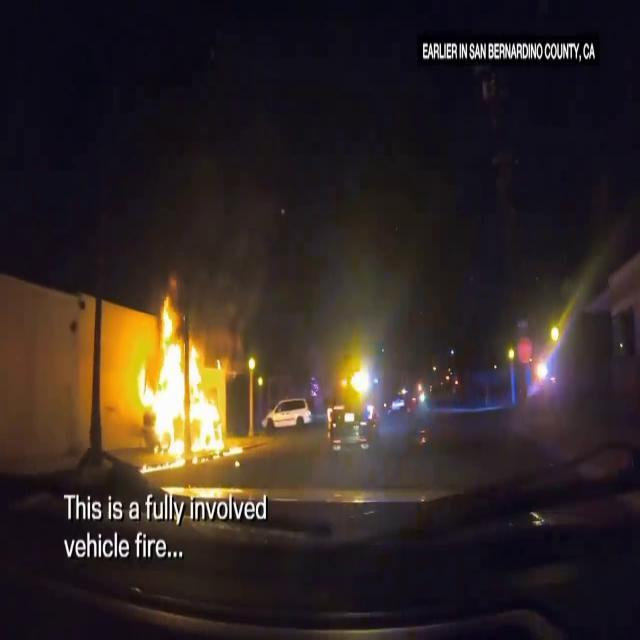Fire: (136, 298, 230, 462)
